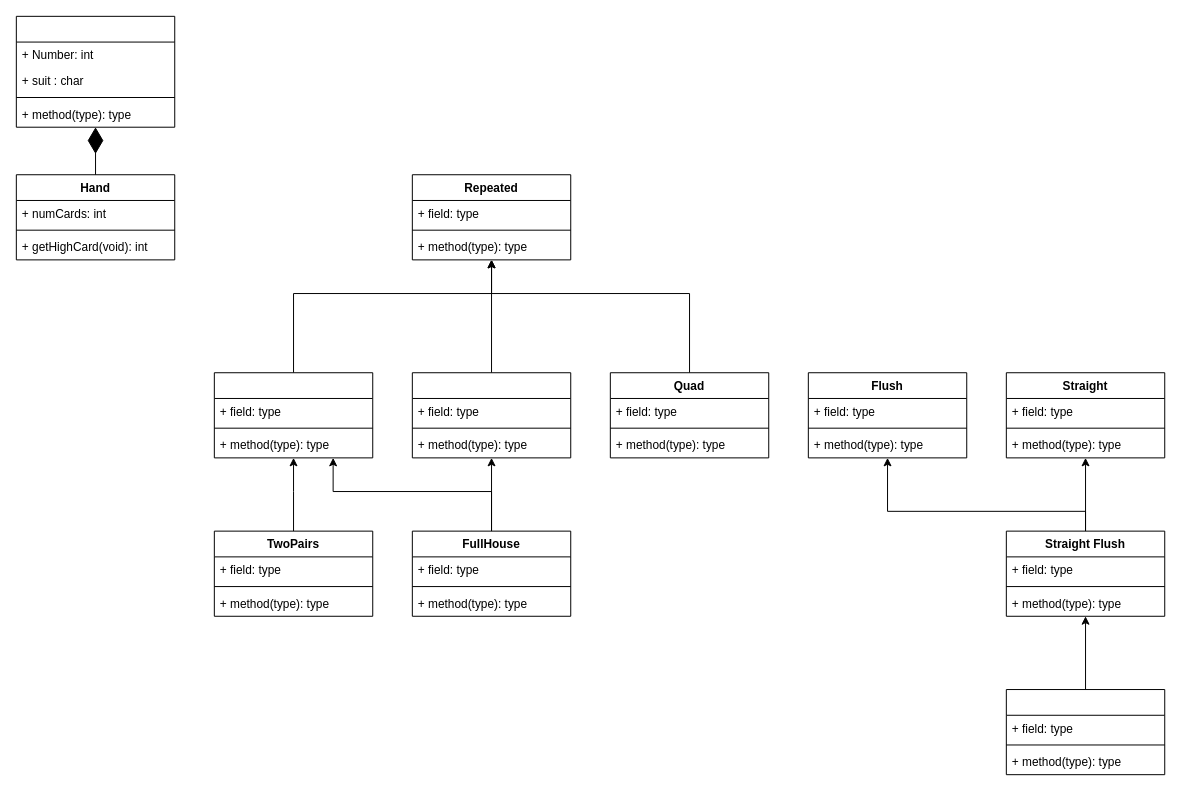
This 1181x791 diagram has some shape labels left out. Each missing label, with the box of its shape:
Card: (15, 15, 175, 127)
Pair: (213, 372, 373, 458)
Royal Flush: (1005, 689, 1165, 775)
Trio: (411, 372, 571, 458)
